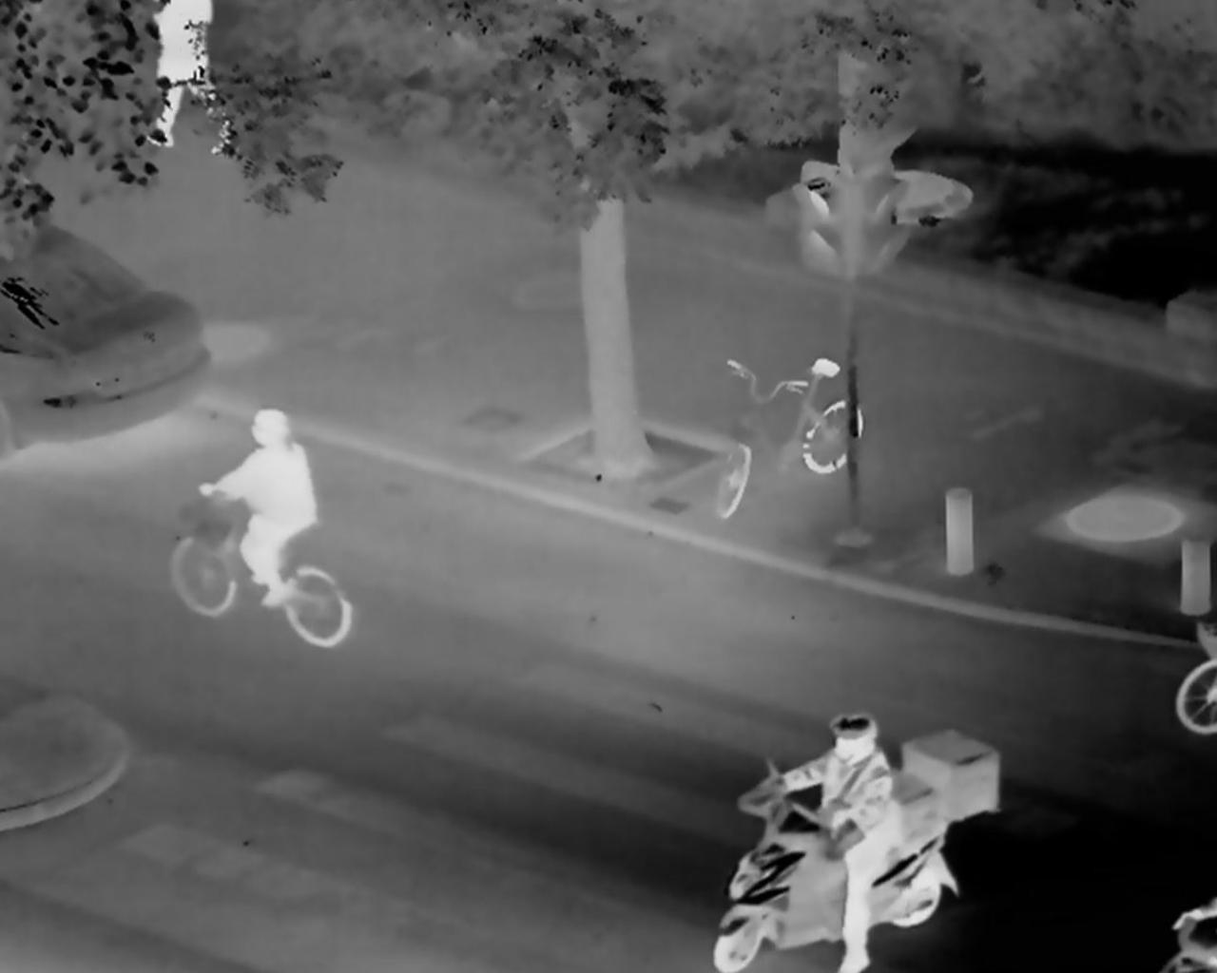person: (774, 711, 903, 973), (198, 408, 315, 610)
